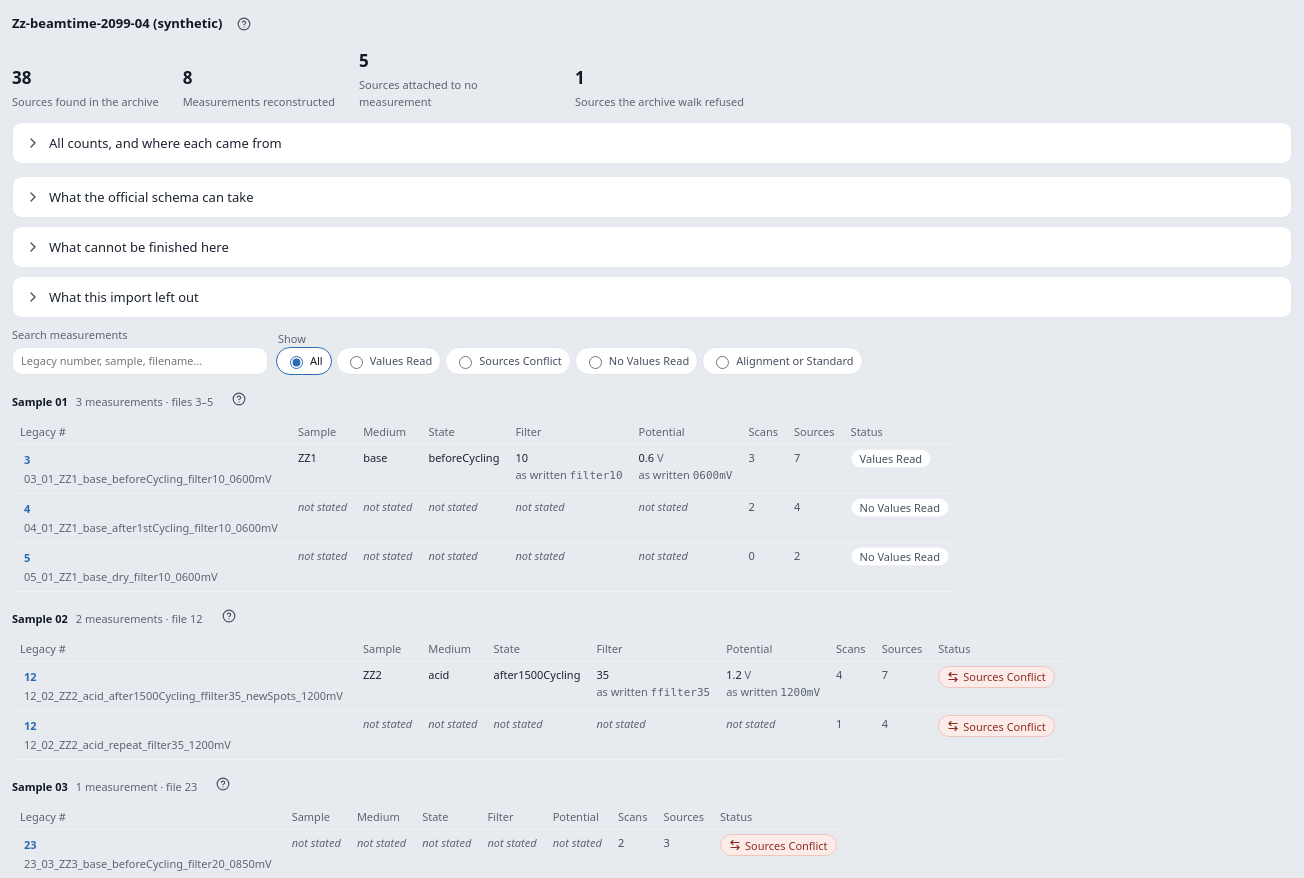
Test: BL15 review · §10 search and filter over the real scale › says so when nothing matches instead of rendering an empty table
Type "zzzz-no-such-measurement" into the search field labelled "Search measurements" at (140, 361), box [12,348,268,374]
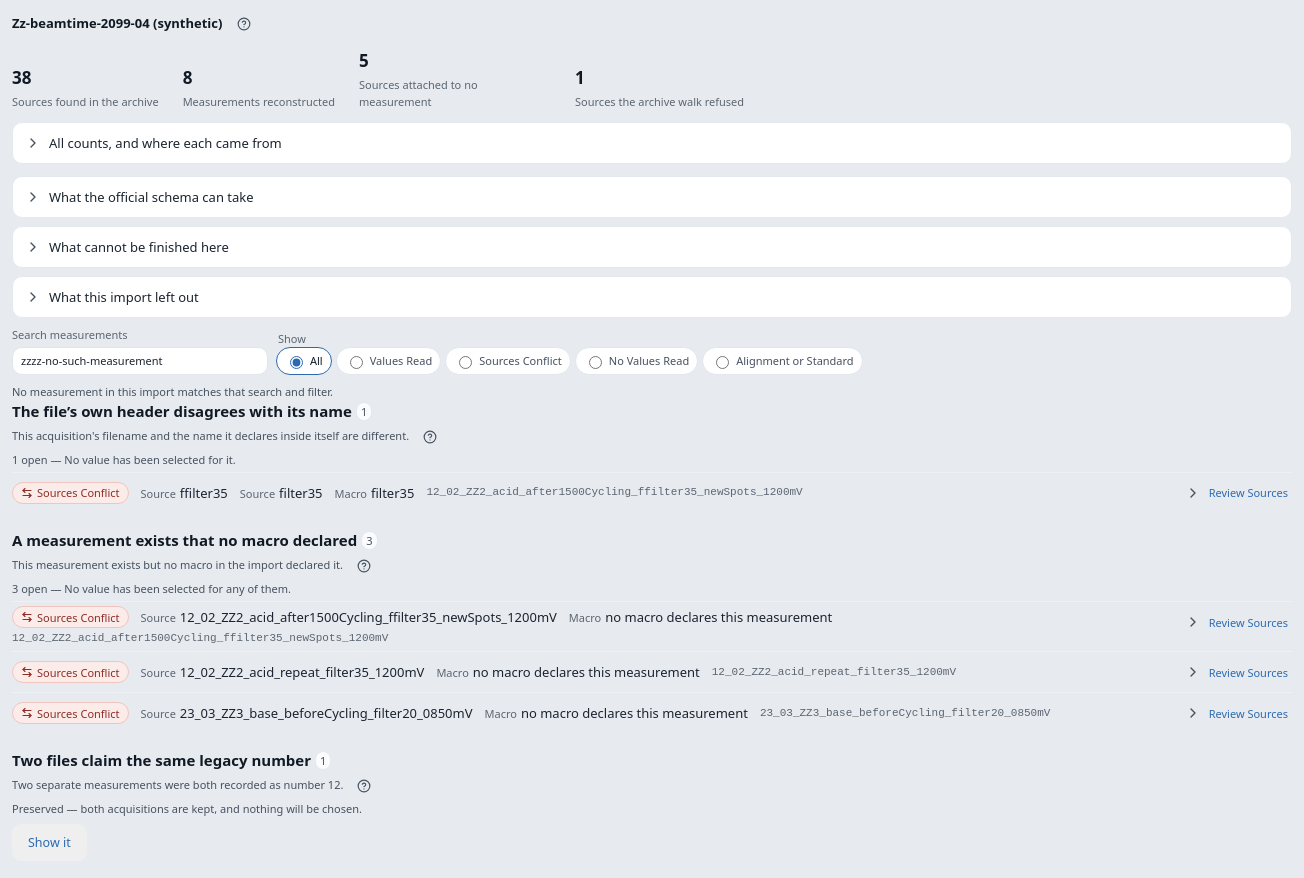
Expected: the text "No measurement in this import matches" is shown, [12,384,333,398]
Expected: no rows with class "bl15-row" are shown
